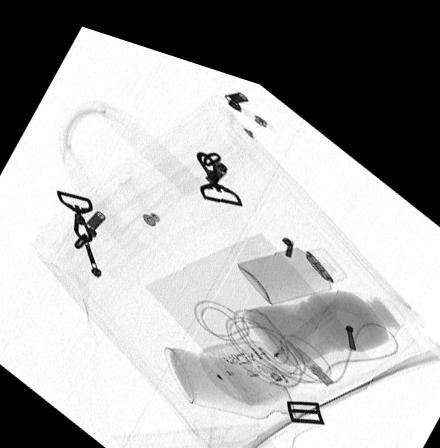Sprayer: (236, 227, 346, 287)
